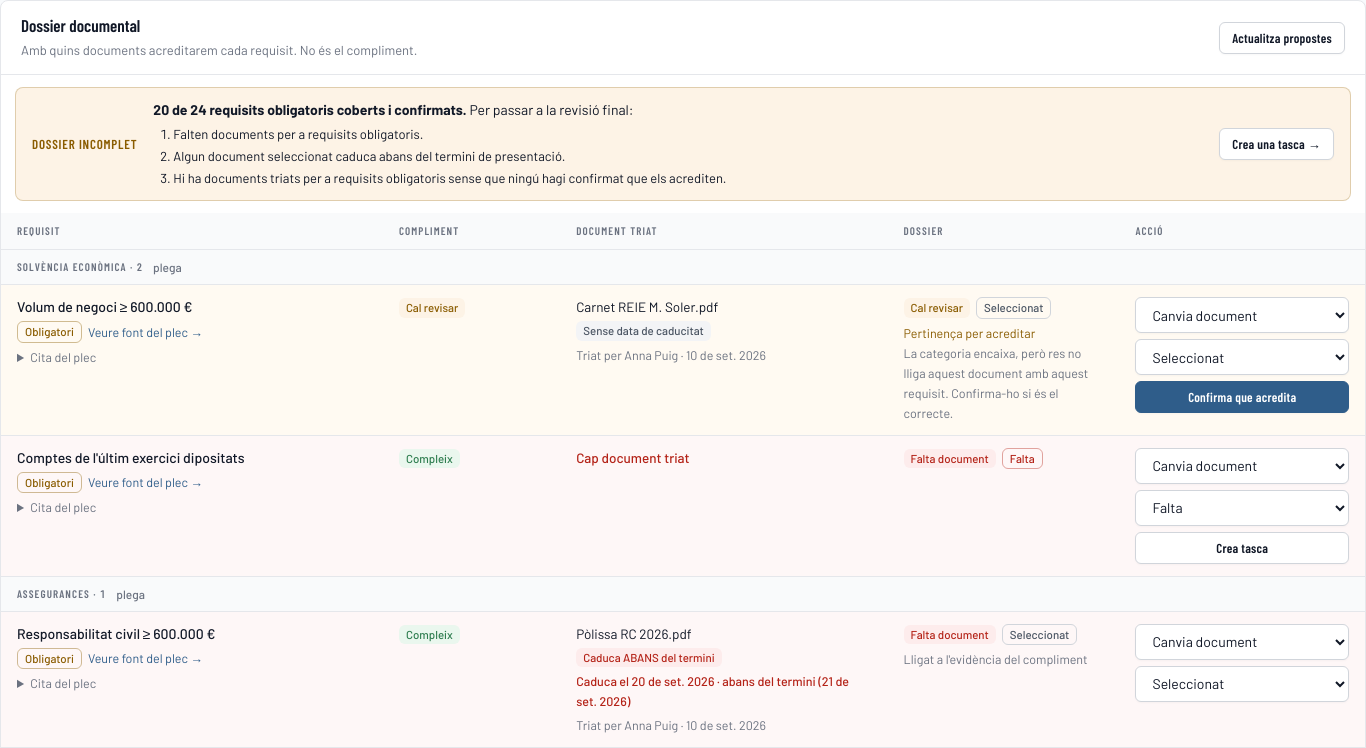
Test: DossierSection · compliment ≠ dossier, triat ≠ acreditat › «Actualitza propostes» fa el sync de sempre, explica el resultat i conserva l'històric
Click the button "Actualitza propostes" at [1282, 38], box x1=1219 y1=22 x2=1345 y2=54
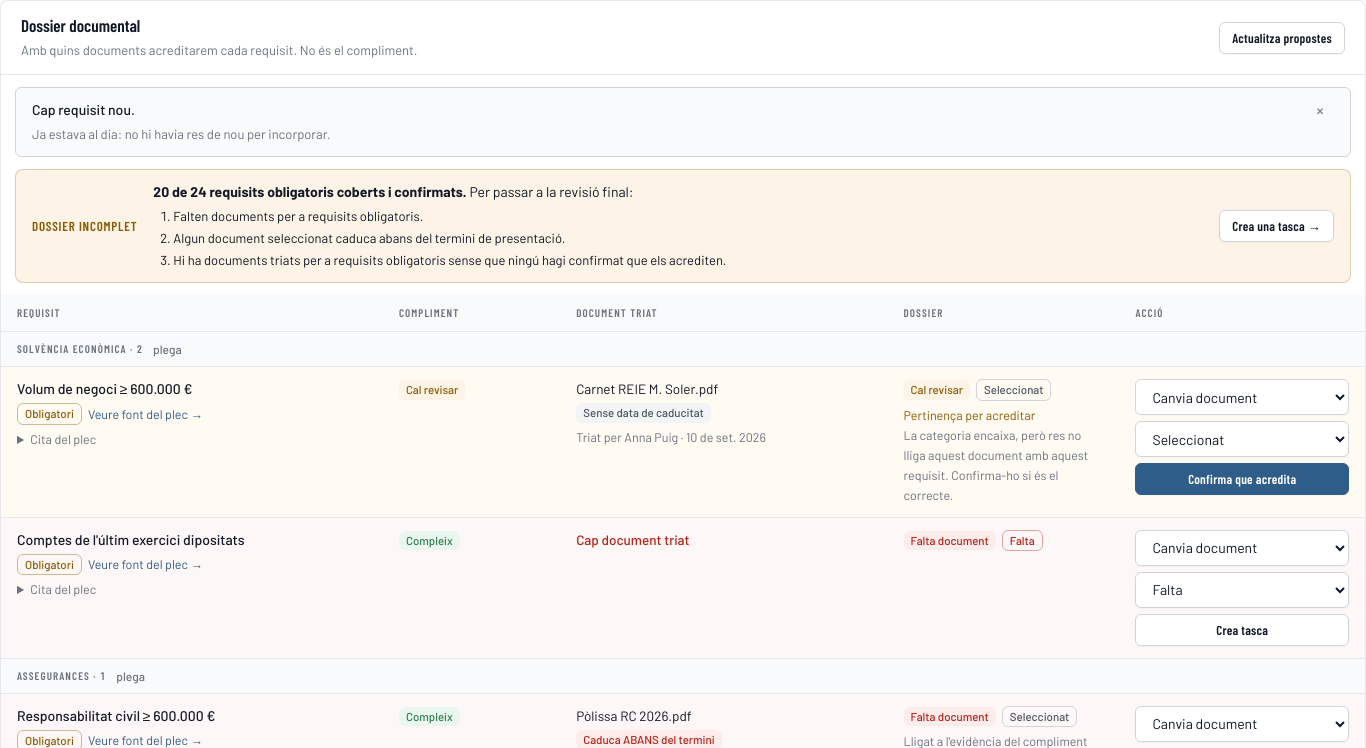
Expected: the text "Cap requisit nou." is shown, x1=32 y1=101 x2=135 y2=118
Expected: the text "Ja estava al dia" is shown, x1=32 y1=126 x2=331 y2=142
